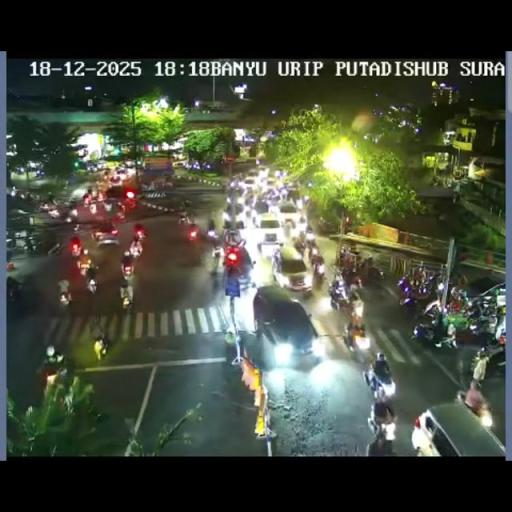Car: (415, 400, 505, 454), (253, 286, 319, 359), (270, 245, 312, 293), (142, 191, 190, 215), (254, 211, 284, 249), (277, 201, 303, 232), (94, 225, 120, 247), (104, 183, 134, 201), (110, 165, 134, 185), (282, 186, 302, 206), (253, 200, 271, 218), (242, 176, 258, 189), (264, 178, 279, 190)
Motorcycle: (60, 232, 140, 311), (413, 294, 502, 358), (366, 398, 398, 452), (174, 227, 208, 267), (41, 362, 69, 400), (344, 318, 370, 354), (371, 353, 393, 391), (224, 332, 242, 375), (416, 270, 442, 298), (328, 282, 350, 312), (398, 288, 420, 317), (481, 334, 505, 358), (410, 322, 436, 344), (238, 262, 258, 290), (462, 301, 484, 325), (449, 283, 469, 309), (209, 259, 224, 293), (362, 264, 383, 288), (6, 277, 24, 304), (310, 253, 326, 282), (93, 332, 109, 360), (420, 298, 442, 318), (479, 296, 499, 318), (316, 216, 338, 234), (350, 294, 364, 322), (204, 229, 221, 252), (468, 353, 485, 375), (119, 284, 133, 310), (24, 236, 44, 254), (342, 264, 358, 286), (494, 312, 506, 340), (120, 255, 134, 277), (84, 275, 98, 296), (58, 288, 72, 308), (129, 239, 142, 259), (46, 240, 62, 256), (294, 236, 306, 257), (122, 197, 137, 210), (78, 260, 90, 276), (46, 206, 62, 218), (398, 275, 410, 291), (114, 204, 126, 219), (268, 201, 280, 216), (304, 229, 314, 245), (134, 223, 144, 239), (70, 242, 81, 256), (68, 206, 78, 220), (188, 227, 198, 241), (6, 245, 14, 262), (103, 201, 113, 214), (46, 192, 56, 205), (178, 213, 188, 225), (223, 218, 233, 230), (310, 244, 318, 258), (235, 219, 245, 229), (89, 202, 97, 214), (83, 194, 91, 205), (452, 192, 459, 204), (103, 170, 110, 182), (183, 198, 192, 207), (73, 223, 81, 233), (97, 191, 104, 201), (26, 191, 32, 201), (10, 186, 16, 196), (303, 194, 309, 204), (19, 191, 26, 199)
